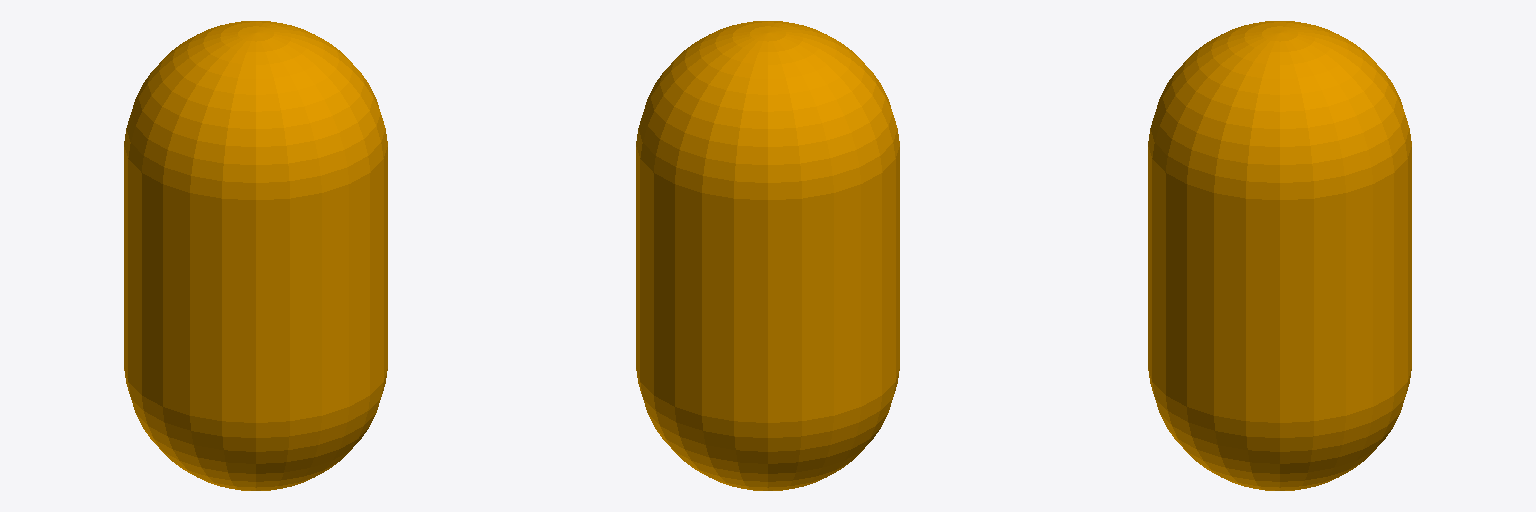
robot.urdf — object:
<?xml version="1.0"?>
<!-- Auto-generated by tools/gen_primitive_objects.py. kind=cap dims=(0.032, 0.055) -->
<robot name="object">
  <link name="object">
    <visual>
      <origin xyz="0 0 0"/>
      <geometry>
        <mesh filename="obj_3.stl"/>
      </geometry>
    </visual>
    <collision>
      <origin xyz="0 0 0"/>
      <geometry>
        <mesh filename="obj_3.stl"/>
      </geometry>
    </collision>
    <inertial>
      <mass value="0.062839"/>
      <inertia ixx="0.00006810" ixy="0.0" ixz="0.0" iyy="0.00006810" iyz="0.0" izz="0.00002936"/>
    </inertial>
  </link>
</robot>

--- What the picture shows (computed from the rendered views, not written in the file) ---
3 views of the same robot in one strip: view 1: azimuth 30°, elevation 25°; view 2: azimuth 150°, elevation 25°; view 3: azimuth 270°, elevation 25° (orthographic).
Robot: object — 1 links, 0 joints (none); root link object; default pose: all joints at 0.
Links seen in each view (by area): view 1: object; view 2: object; view 3: object.
Link boxes in pixels (x1=…): object: x1=124, y1=21, x2=387, y2=490; object: x1=636, y1=21, x2=899, y2=490; object: x1=1148, y1=21, x2=1411, y2=490.
Bounding box of the posed robot: 0.0639 × 0.0639 × 0.119 m (x, y, z).
1 mesh visuals loaded from 1 distinct referenced files (1 binary STL).
